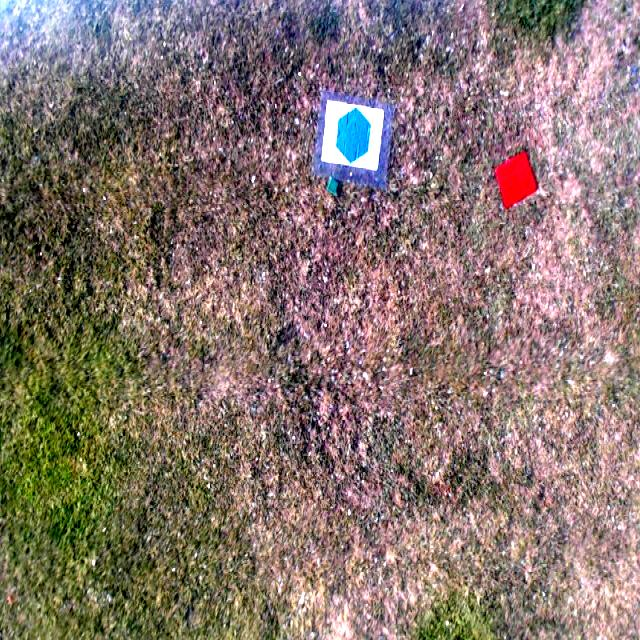blue_hexagon: (334, 103, 374, 166)
red_square: (493, 150, 538, 212)
